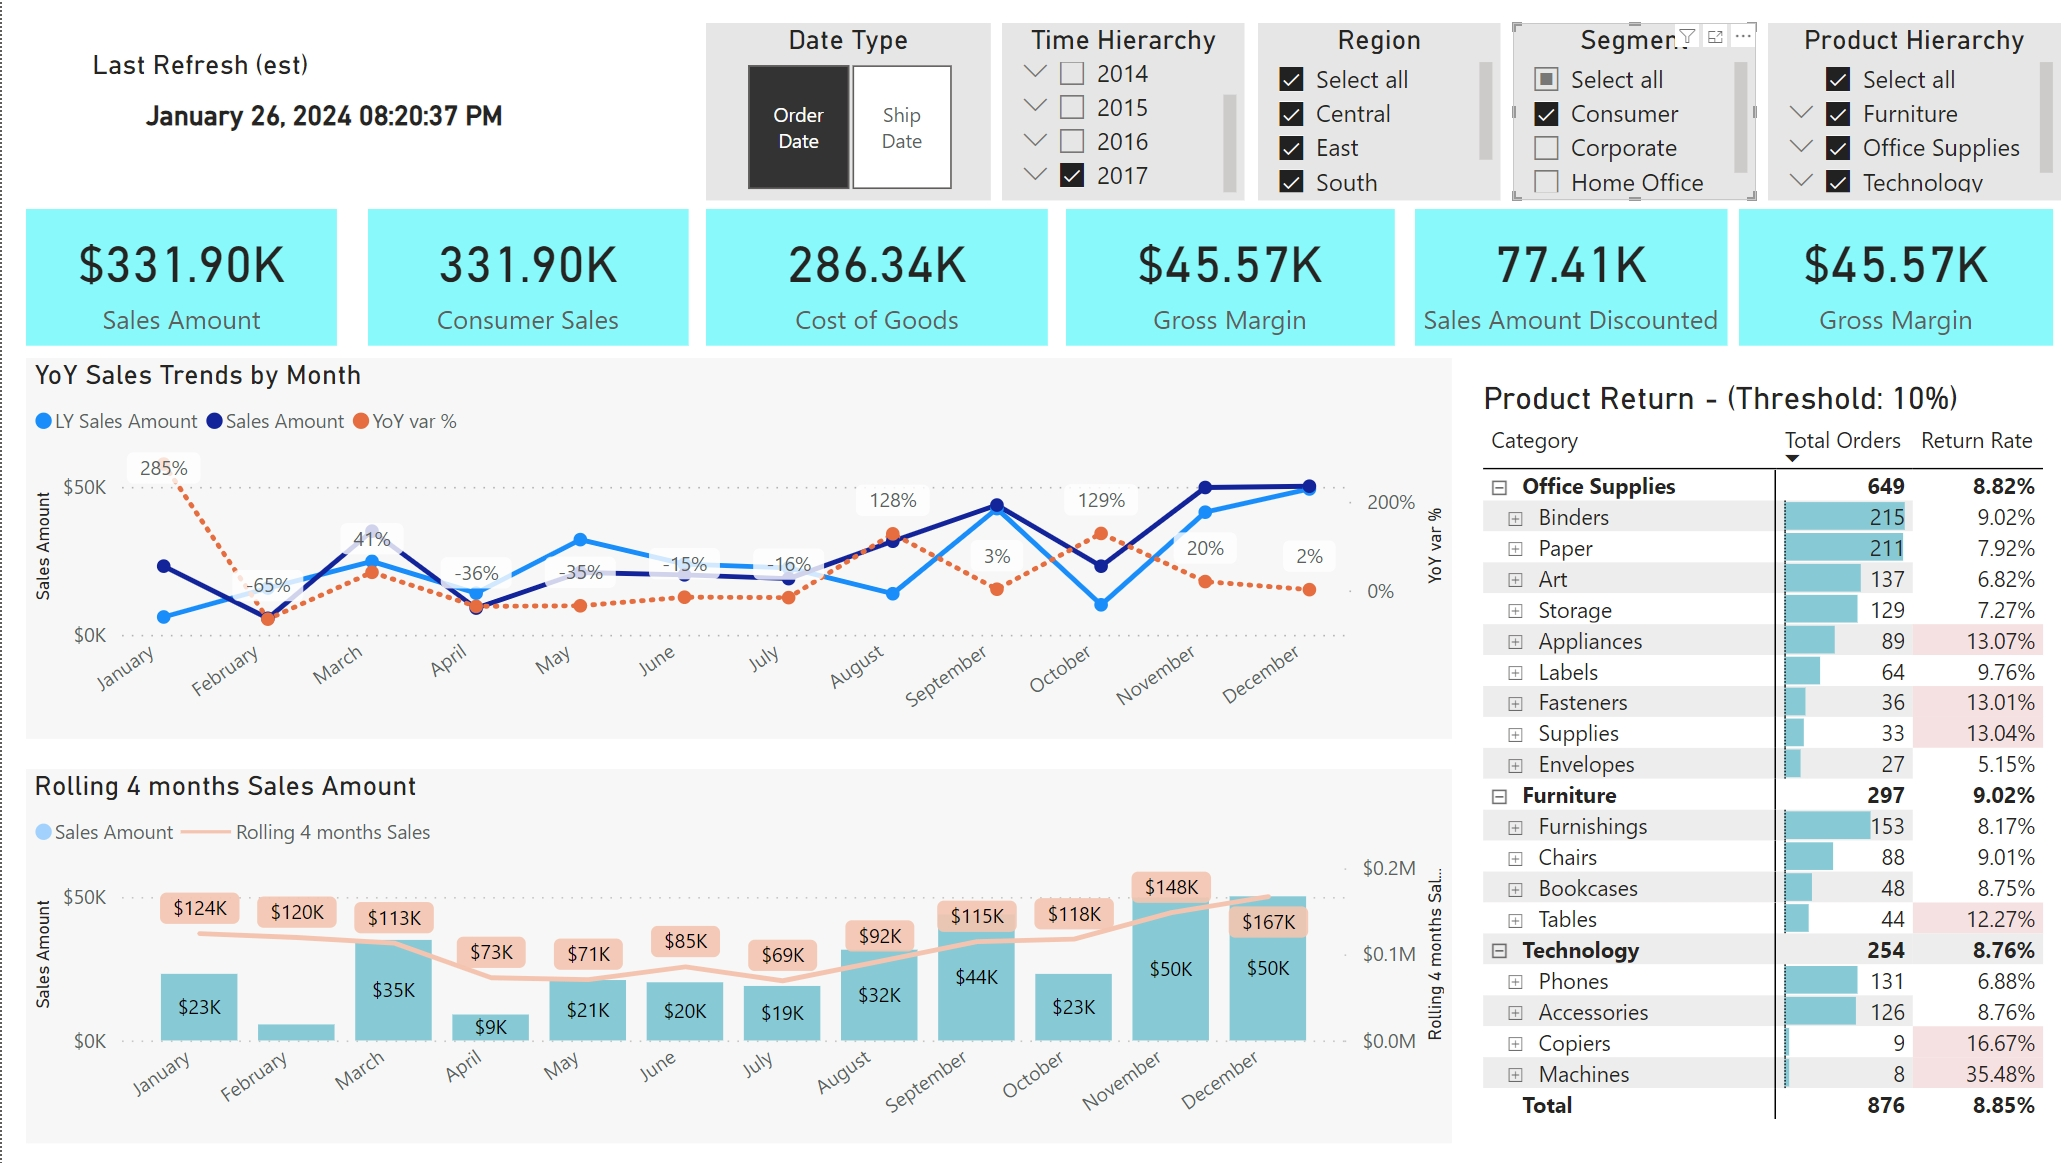

What the dashboard file says about the page in this screenshot:
{"tool":"powerbi","page":{"name":"Page 1","canvas":[1280,720],"ordinal":0},"visuals":[{"type":"card","fields":{"Values":["Key Measure.Sales Amount"]},"box":[14.7,132.7,191.1,84.2],"z":0},{"type":"slicer","title":"Date Type","fields":{"Values":["Date Type.Date Type"]},"box":[432.5,18.4,175.1,108.7],"z":1000},{"type":"card","title":"Last Refresh (est)","fields":{"Values":["Last Refresh.Last Refreshed(Local)"]},"box":[50.4,33.8,295.5,64.5],"z":2000},{"type":"lineChart","title":"YoY Sales Trends by Month","fields":{"Y":["Time Intelligence Measure.LY Sales Amount","Key Measure.Sales Amount"],"Category":["Calendar.Month"],"Y2":["Time Intelligence Measure.YoY var %"]},"box":[14.7,224.2,876,234.1],"z":3000},{"type":"slicer","title":"Time Hierarchy","fields":{"Values":["Calendar.Date.Variation.Date Hierarchy.Year","Calendar.Date.Variation.Date Hierarchy.Quarter","Calendar.Date.Variation.Date Hierarchy.Month","Calendar.Date.Variation.Date Hierarchy.Day"]},"box":[614.3,18.4,149.3,108.7],"z":4000},{"type":"lineStackedColumnComboChart","title":"Rolling 4 months Sales Amount","fields":{"Category":["Calendar.Month"],"Y":["Key Measure.Sales Amount"],"Y2":["Time Intelligence Measure.Rolling 4 months Sales"]},"box":[14.7,476.7,876,229.8],"z":5000},{"type":"pivotTable","title":"Product Return - (Threshold: 10%)","fields":{"Rows":["Product.Category Hierarchy.Category","Product.Category Hierarchy.Sub-Category","Product.Category Hierarchy.Product Name"],"Values":["Key Measure.Total Orders","Key Measure.Return Rate"]},"box":[904.9,237.7,360,468.7],"z":6000},{"type":"card","fields":{"Values":["Key Measure.Consumer Sales"]},"box":[224.8,132.7,196.6,84.2],"z":7000},{"type":"card","fields":{"Values":["Key Measure.Cost of Goods"]},"box":[432.5,132.7,210.1,84.2],"z":8000},{"type":"card","fields":{"Values":["Key Measure.Gross Margin"]},"box":[653.7,132.7,201.5,84.2],"z":9000},{"type":"card","fields":{"Values":["Key Measure.Sales Amount Discounted"]},"box":[868.1,132.7,191.7,84.2],"z":10000},{"type":"card","fields":{"Values":["Key Measure.Gross Margin"]},"box":[1067.1,132.7,192.9,84.2],"z":11000},{"type":"slicer","title":"Region","fields":{"Values":["People.Region"]},"box":[771.6,18.4,149.3,108.7],"z":12000},{"type":"slicer","title":"Segment","fields":{"Values":["Customer.Segment"]},"box":[928.3,18.4,149.3,108.7],"z":13000},{"type":"slicer","title":"Product Hierarchy","fields":{"Values":["Product.Category Hierarchy.Category","Product.Category Hierarchy.Sub-Category","Product.Category Hierarchy.Product Name"]},"box":[1084.9,18.4,180,108.7],"z":14000}]}

Visuals, with their boxes in screenshot pixels (x1, y1, x2, y2), scaled from the page's 1280x720 canvas onto the 2066x1163 screenshot:
card - Key Measure.Sales Amount: [24,214,332,350]
"Date Type" slicer: [698,30,981,205]
"Last Refresh (est)" card: [81,55,558,159]
"YoY Sales Trends by Month" lineChart: [24,362,1438,740]
"Time Hierarchy" slicer: [992,30,1232,205]
"Rolling 4 months Sales Amount" lineStackedColumnComboChart: [24,770,1438,1141]
"Product Return - (Threshold: 10%)" pivotTable: [1461,384,2042,1141]
card - Key Measure.Consumer Sales: [363,214,680,350]
card - Key Measure.Cost of Goods: [698,214,1037,350]
card - Key Measure.Gross Margin: [1055,214,1380,350]
card - Key Measure.Sales Amount Discounted: [1401,214,1711,350]
card - Key Measure.Gross Margin: [1722,214,2034,350]
"Region" slicer: [1245,30,1486,205]
"Segment" slicer: [1498,30,1739,205]
"Product Hierarchy" slicer: [1751,30,2042,205]
